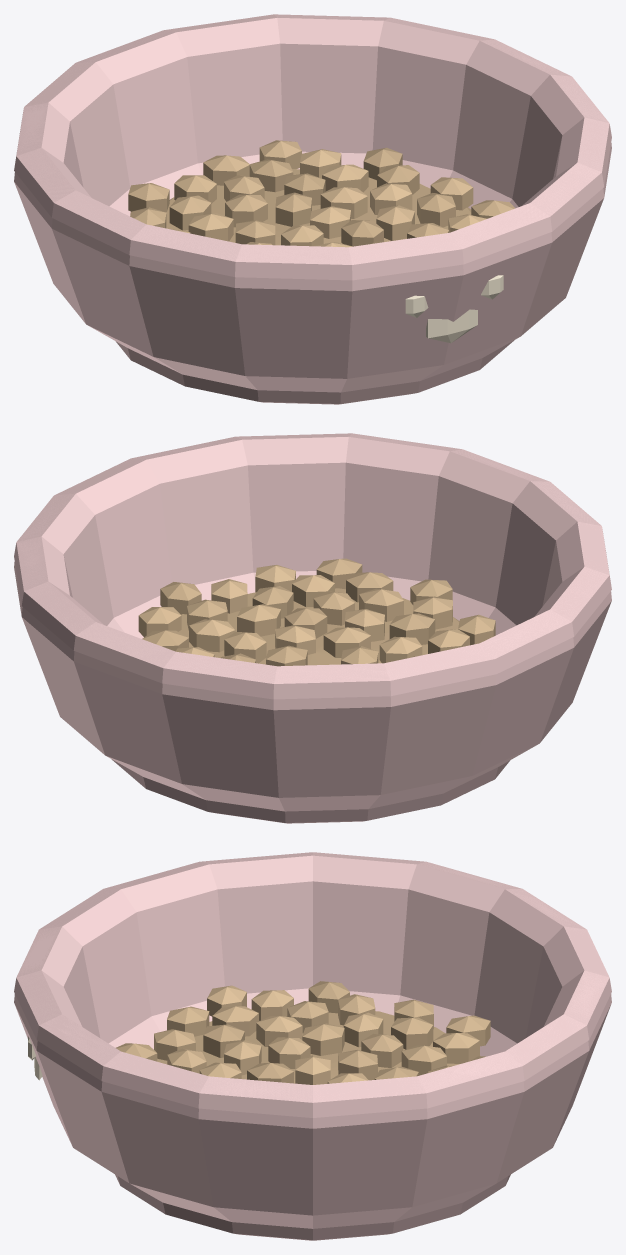
File: crafted-cat-food-0-1.glb
3 views of the same model, one above another, from view 1: azimuth 30°, elevation 25°; view 2: azimuth 150°, elevation 25°; view 3: azimuth 270°, elevation 25° (orthographic).
Visible parts, largest first — view 1: ceramic-bowl, glazed-rim, foot-ring, ration-volume, ration-granule-2, paw-pad, ration-granule-21, ration-granule-7, ration-granule-5, ration-granule-8, ration-granule-41, ration-granule-36 (+19 smaller); view 2: ceramic-bowl, glazed-rim, foot-ring, ration-volume, ration-granule-8, ration-granule-13, ration-granule-14, ration-granule-19, ration-granule-1, ration-granule-34, ration-granule-5, ration-granule-11 (+19 smaller); view 3: ceramic-bowl, glazed-rim, foot-ring, ration-volume, ration-granule-4, ration-granule-28, ration-granule-20, ration-granule-9, ration-granule-7, ration-granule-15, ration-granule-1, ration-granule-35 (+17 smaller).
Boxes of the visible parts, x1,y1,x2,y2 form: ceramic-bowl: [14, 14, 611, 392]; glazed-rim: [14, 14, 611, 280]; foot-ring: [116, 340, 514, 404]; ration-volume: [166, 169, 471, 245]; ration-granule-2: [275, 192, 311, 226]; paw-pad: [426, 309, 477, 343]; ration-granule-21: [417, 193, 455, 227]; ration-granule-7: [225, 194, 267, 227]; ration-granule-5: [320, 187, 367, 218]; ration-granule-8: [376, 205, 414, 240]; ration-granule-41: [128, 183, 169, 212]; ration-granule-36: [203, 155, 249, 185]; ceramic-bowl: [14, 433, 611, 811]; glazed-rim: [14, 433, 611, 699]; foot-ring: [111, 759, 509, 823]; ration-volume: [178, 588, 459, 665]; ration-granule-8: [237, 604, 280, 636]; ration-granule-13: [189, 619, 235, 652]; ration-granule-14: [389, 613, 435, 644]; ration-granule-19: [359, 588, 403, 621]; ration-granule-1: [323, 627, 370, 657]; ration-granule-34: [138, 607, 181, 637]; ration-granule-5: [224, 631, 266, 663]; ration-granule-11: [313, 591, 354, 625]; ceramic-bowl: [14, 852, 611, 1228]; glazed-rim: [14, 852, 611, 1117]; foot-ring: [115, 1174, 510, 1240]; ration-volume: [157, 1011, 480, 1083]; ration-granule-4: [302, 1023, 344, 1055]; ration-granule-28: [433, 1033, 479, 1063]; ration-granule-20: [391, 1017, 433, 1049]; ration-granule-9: [256, 1016, 302, 1046]; ration-granule-7: [361, 1033, 403, 1067]; ration-granule-15: [401, 1045, 446, 1075]; ration-granule-1: [268, 1037, 310, 1068]; ration-granule-35: [167, 1006, 209, 1036].
Size of the model in its own units: 0.76 by 0.265 by 0.76.
